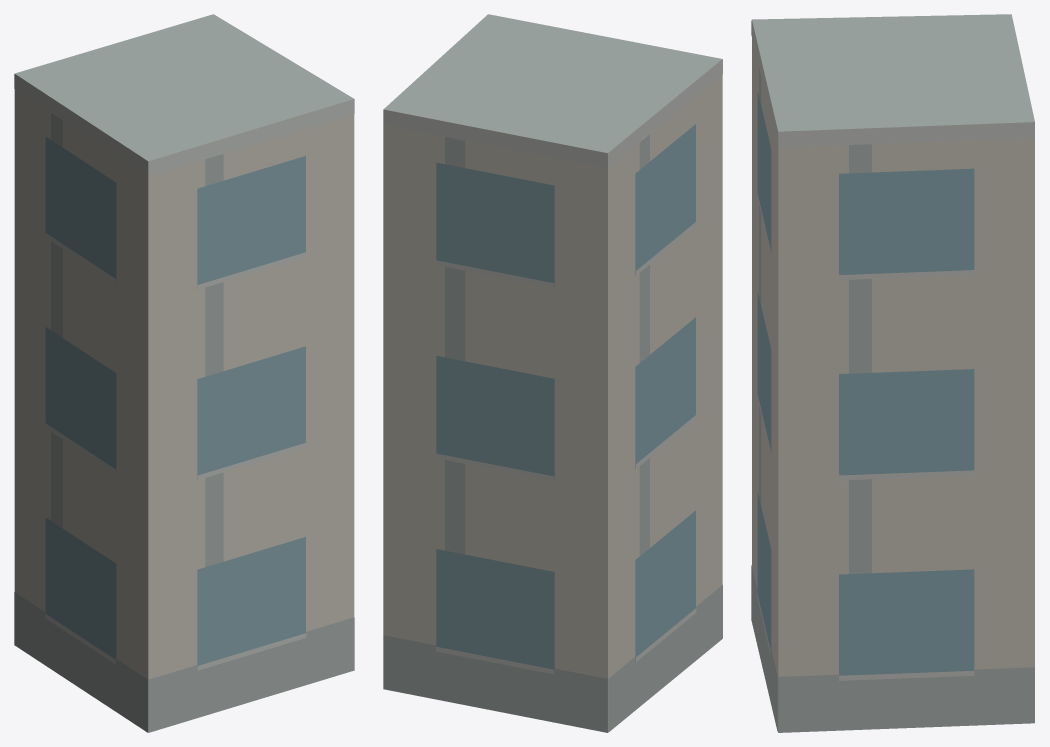
File: survey-upis-32985815.glb
3 views of the same model, side by side, from view 1: azimuth 30°, elevation 25°; view 2: azimuth 150°, elevation 25°; view 3: azimuth 270°, elevation 25° (orthographic). The views are drawn at different scales.
Visible parts, largest first — view 1: survey-upis-32985815.tmp; view 2: survey-upis-32985815.tmp; view 3: survey-upis-32985815.tmp.
Part boxes in pixels (<box>): survey-upis-32985815.tmp: <box>14,14,354,732</box>; survey-upis-32985815.tmp: <box>383,14,722,732</box>; survey-upis-32985815.tmp: <box>751,14,1034,732</box>.
Bounding box in the file's own units: 3.85 × 9.15 × 3.92.
